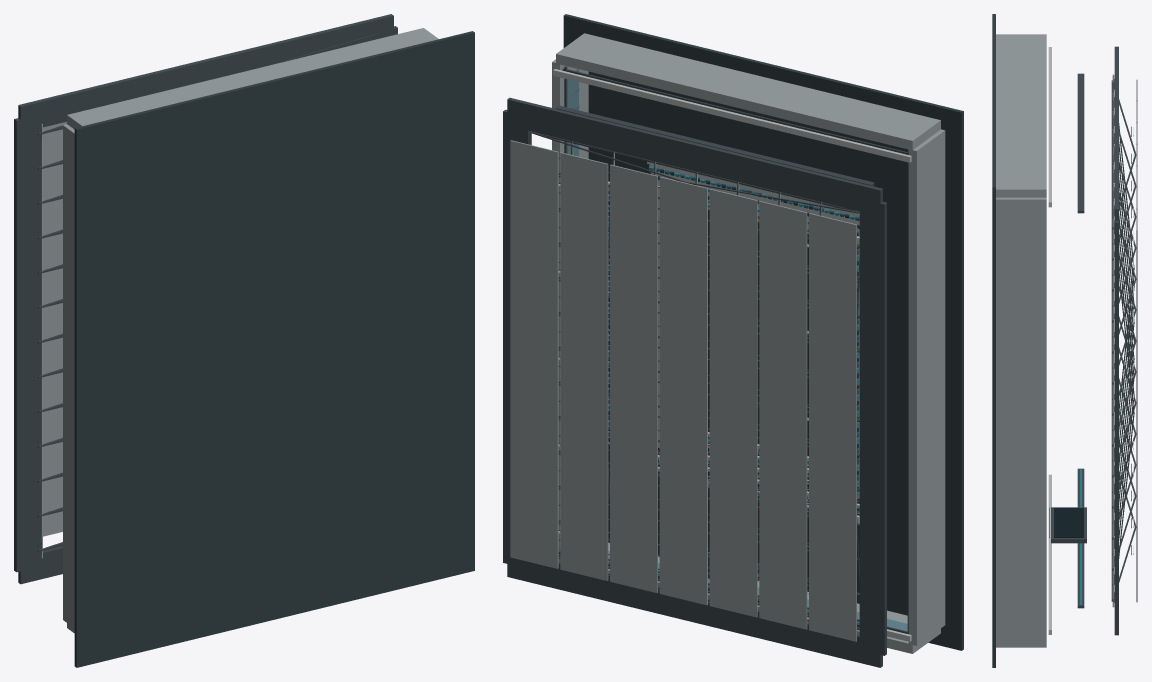
Rendered from realistic-arena.glb.
The picture shows the model from 3 angles, left to right: view 1: azimuth 30°, elevation 25°; view 2: azimuth 150°, elevation 25°; view 3: azimuth 270°, elevation 25°; orthographic projection. The views are drawn at different scales.
Visible parts, largest first — view 1: Arena_rubber, Arena_steel, Arena_concrete, Arena_steel_light; view 2: Arena_concrete, Arena_steel, Arena_rubber, Arena_concrete_light, Arena_glass, Arena_seat_teal; view 3: Arena_concrete, Arena_steel, Arena_rubber, Arena_steel_light, Arena_concrete_light, Arena_screen.
Boxes of the visible parts, <box> form: Arena_rubber: <box>74,31,474,667</box>; Arena_steel: <box>14,14,397,584</box>; Arena_concrete: <box>43,28,438,633</box>; Arena_steel_light: <box>41,124,42,558</box>; Arena_concrete: <box>510,33,945,653</box>; Arena_steel: <box>503,66,908,667</box>; Arena_rubber: <box>563,14,963,650</box>; Arena_concrete_light: <box>553,69,911,641</box>; Arena_glass: <box>567,69,907,631</box>; Arena_seat_teal: <box>608,166,859,522</box>; Arena_concrete: <box>996,34,1137,647</box>; Arena_steel: <box>1051,46,1136,635</box>; Arena_rubber: <box>992,14,995,667</box>; Arena_steel_light: <box>1112,74,1114,607</box>; Arena_concrete_light: <box>1048,47,1051,634</box>; Arena_screen: <box>1054,508,1083,537</box>.
Bounding box in the file's own units: 48 × 62 × 17.01.
